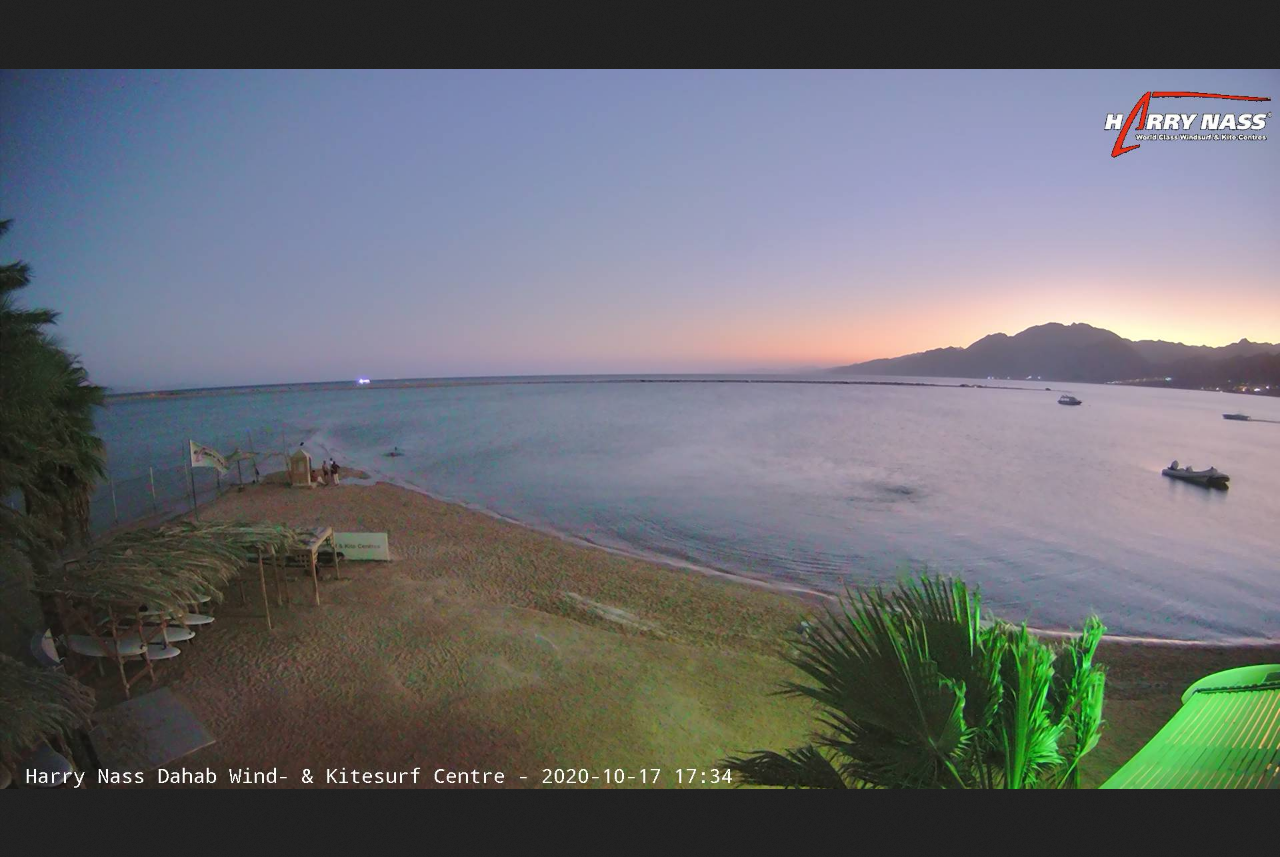yes: (182, 435, 233, 476)
